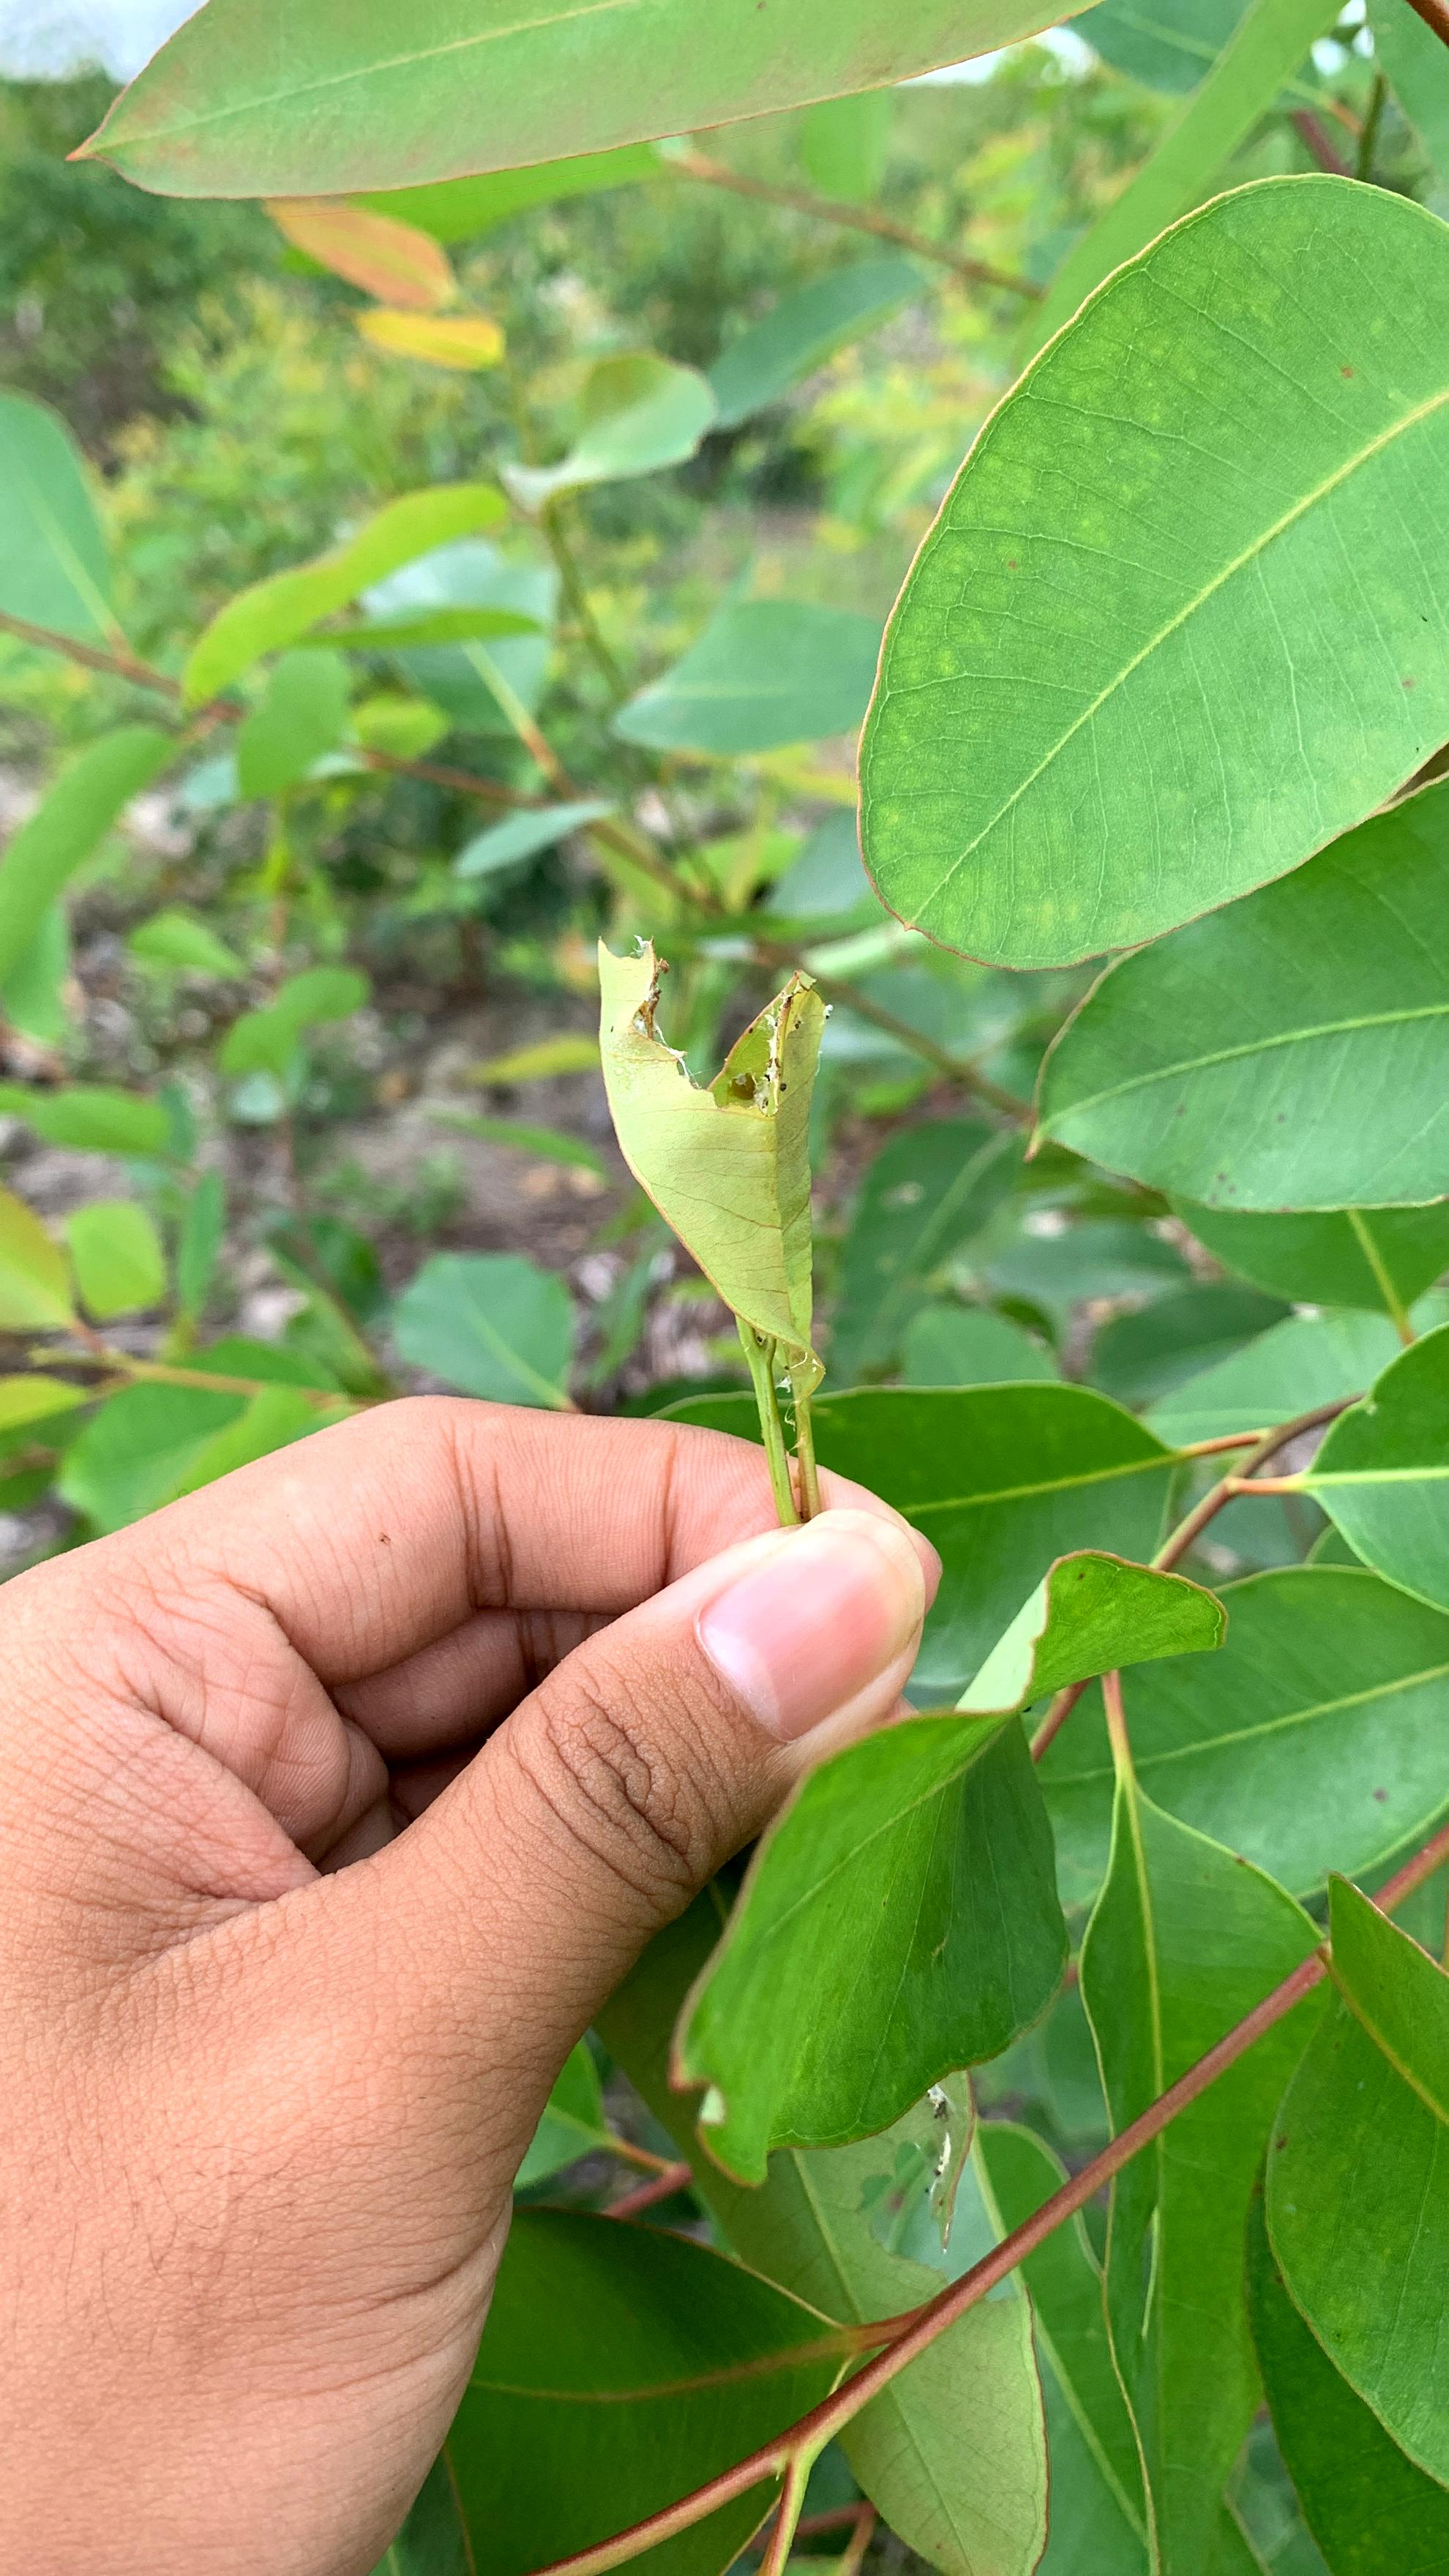Leaf Roller - Leaf: (536, 858, 932, 1477)
